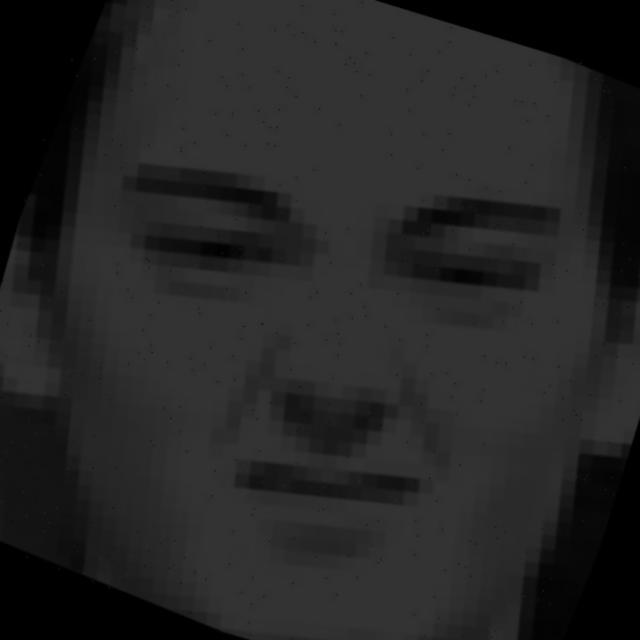Disgust: (49, 53, 640, 553)
